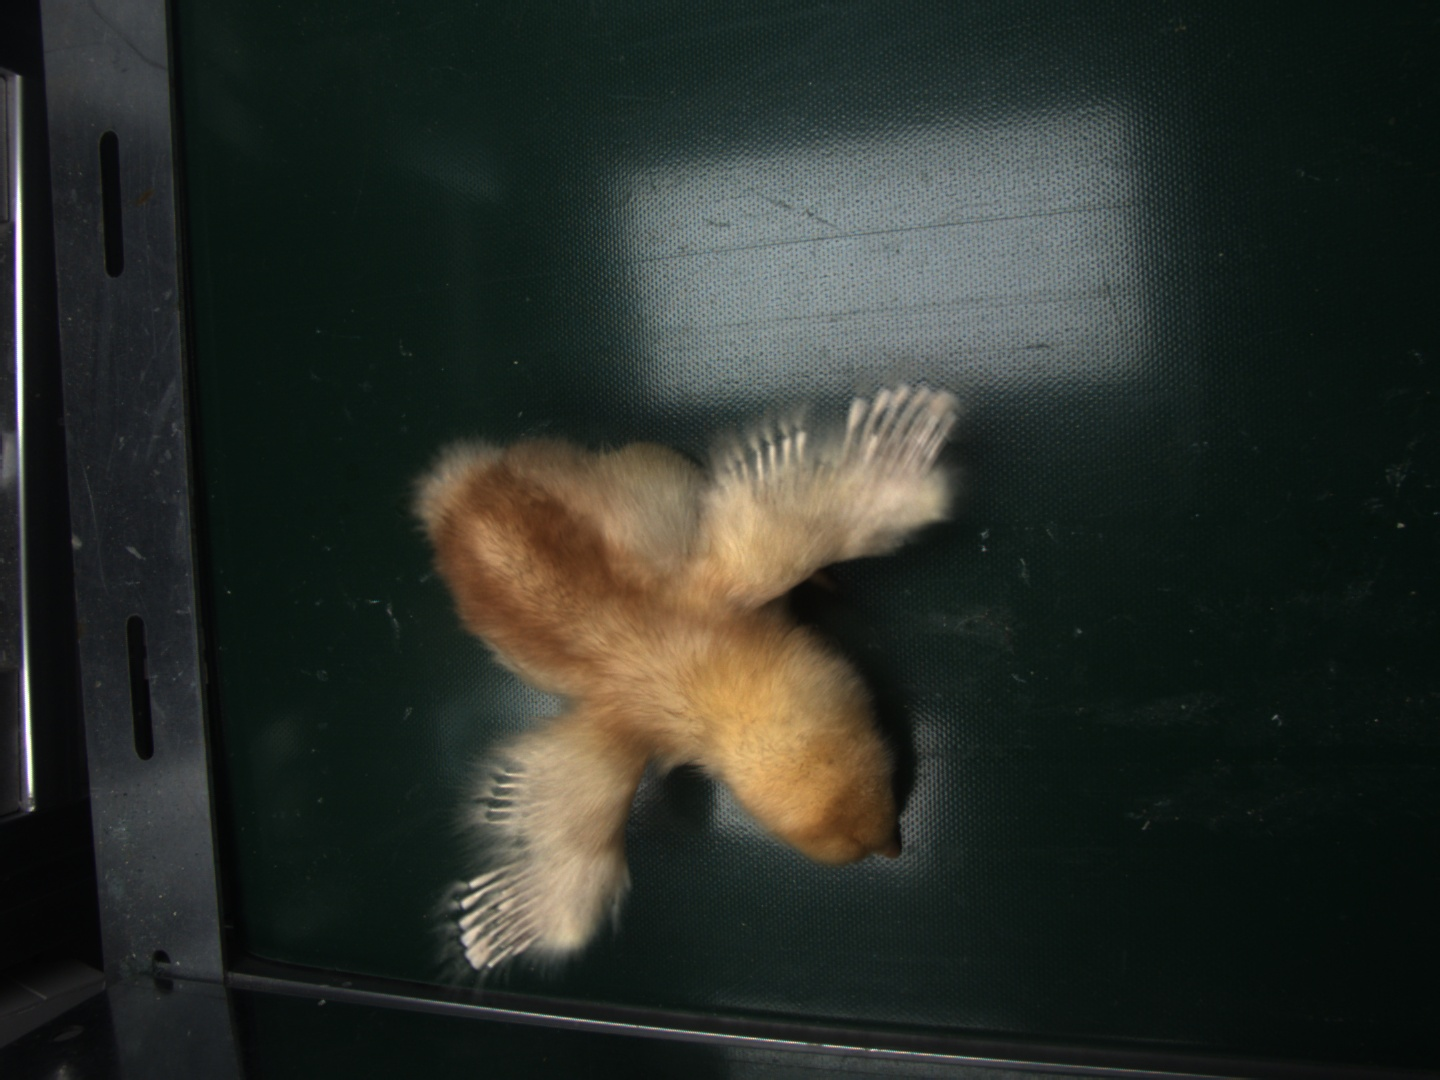female: (451, 864, 542, 971)
